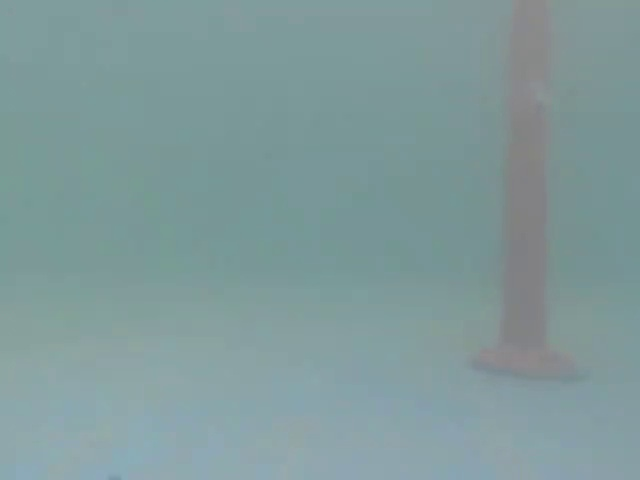flare: (479, 0, 577, 386)
